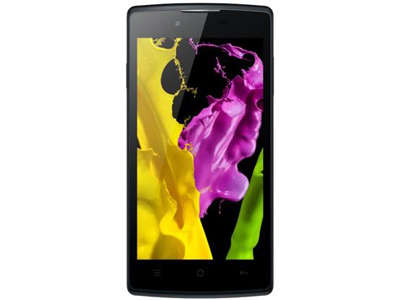Handphone: (124, 1, 279, 300)
